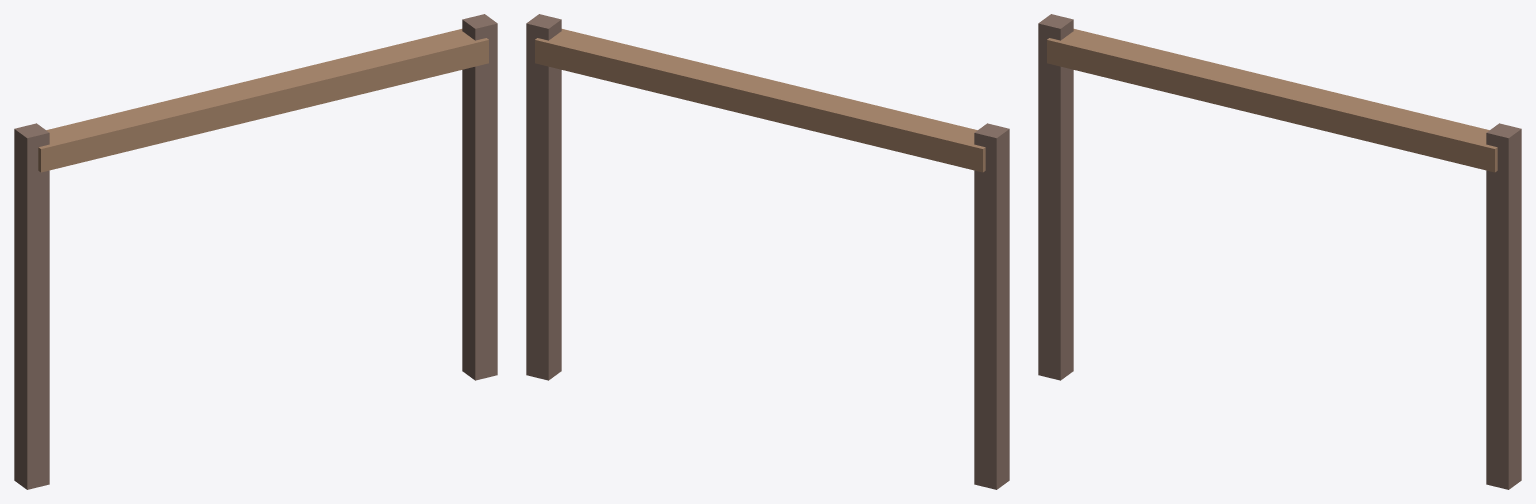
Rendered from farm_gate_4m.glb.
3 views of the same model, side by side, from view 1: azimuth 30°, elevation 25°; view 2: azimuth 150°, elevation 25°; view 3: azimuth 330°, elevation 25° (orthographic).
Visible parts, largest first — view 1: wood_dark, wood; view 2: wood_dark, wood; view 3: wood_dark, wood.
Boxes of the visible parts, x1,y1,x2,y2 form: wood_dark: (14,14,497,489); wood: (38,29,488,172); wood_dark: (526,14,1009,489); wood: (535,29,985,172); wood_dark: (1038,14,1521,489); wood: (1047,29,1497,172).
Size of the model in its own units: 4.2 by 3 by 0.28.
